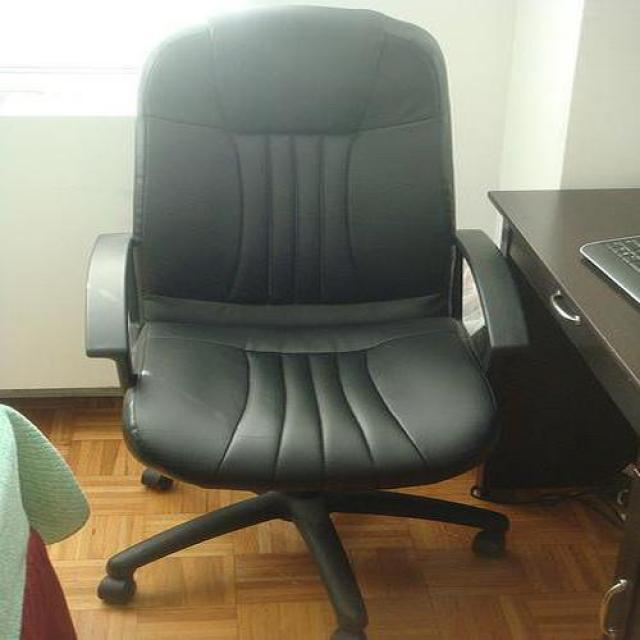swivelchair: (84, 5, 511, 640)
